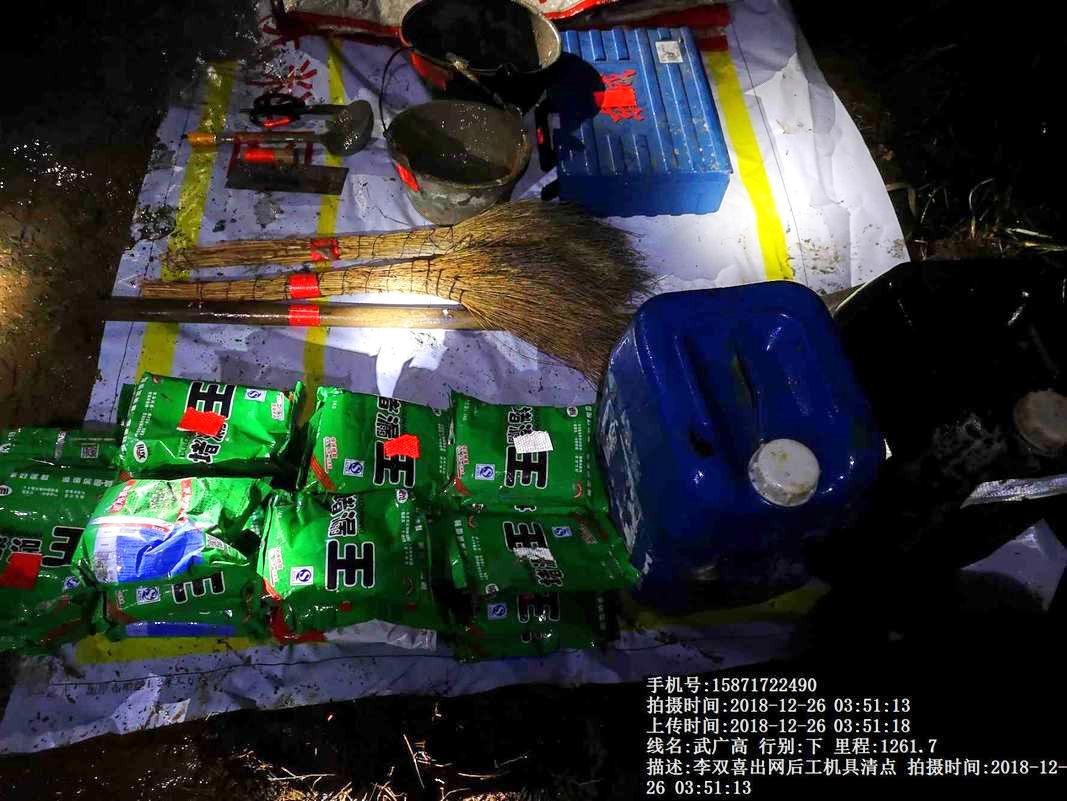SB: (164, 257, 618, 374), (169, 208, 623, 253)
SLT: (608, 310, 877, 574)
SNT: (383, 98, 535, 210), (399, 4, 565, 94)
